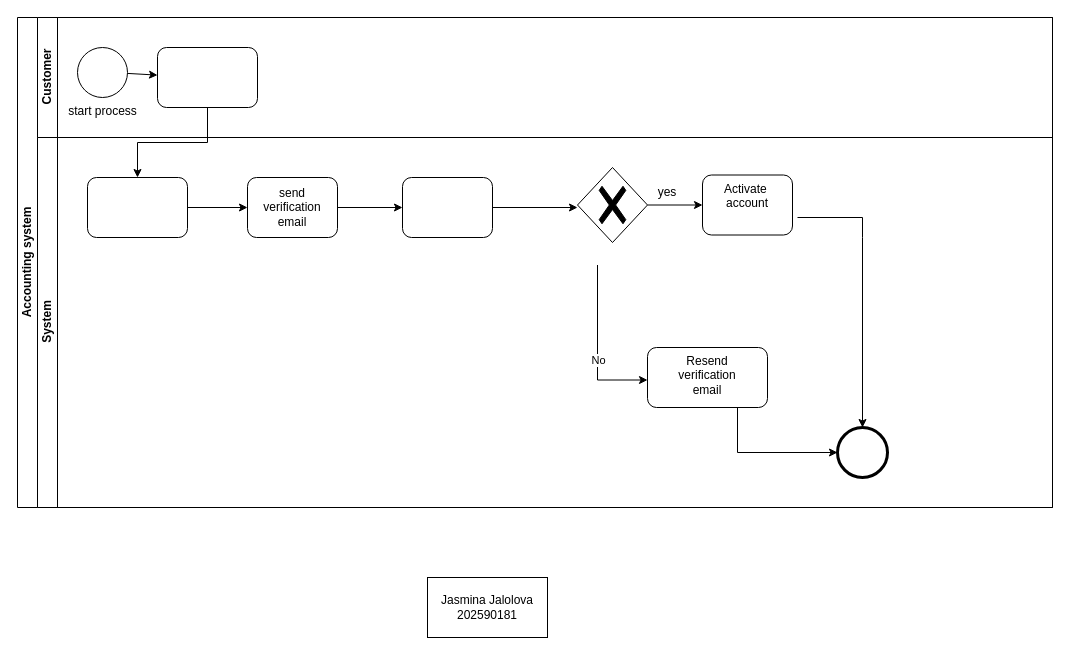
Some shapes in this 1078 by 655 pixel diagram are drawn without their labels. The shapes that lost their labels are listed below. From the top down, each one's centre as x and y in pixels, then its label:
At [207,77]: "Enter sign-up information".
At [137,207]: "create user account".
At [447,207]: "click verification link".
At [612,204]: "Email verified?".
